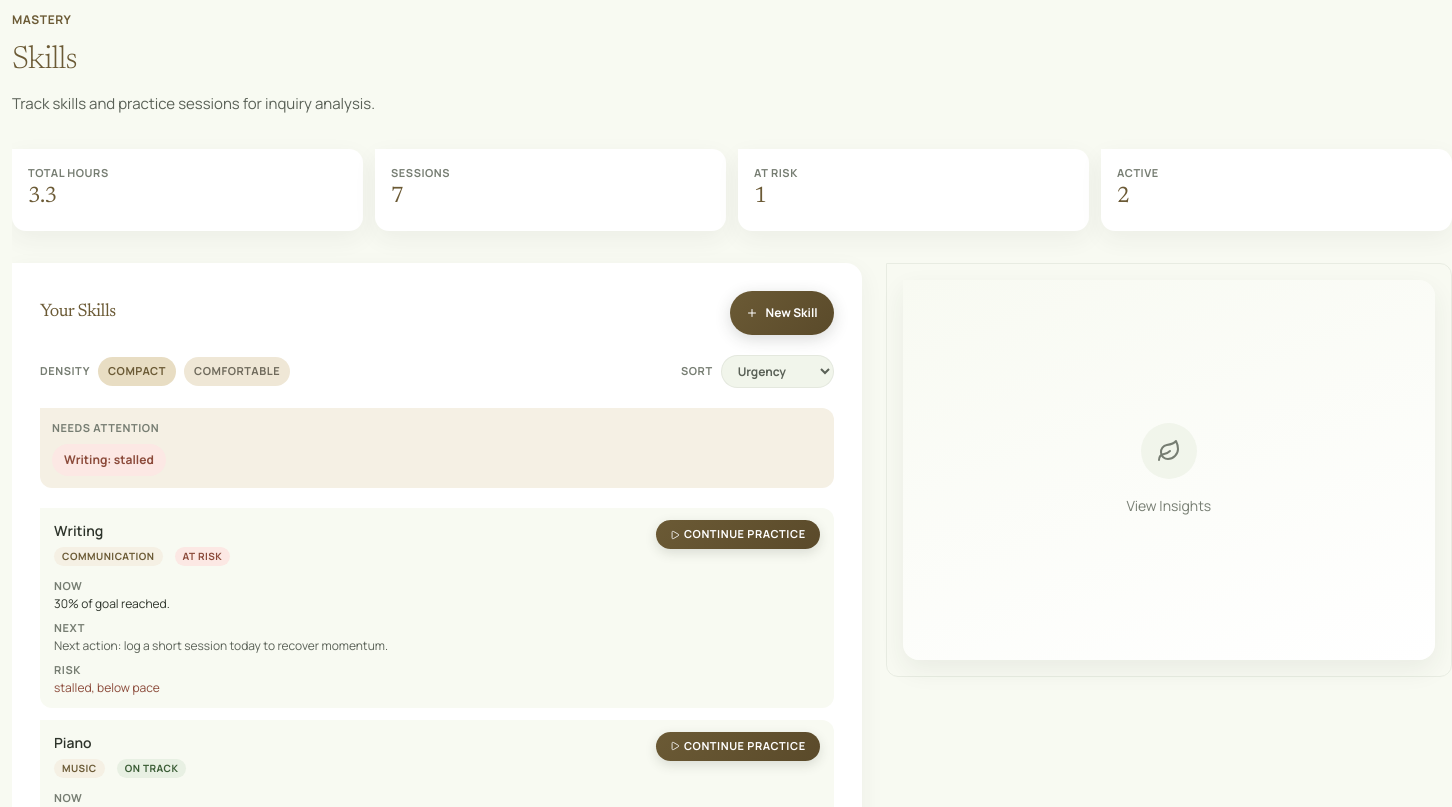
it: SkillsPage create flow rollout behavior › shows needs-attention strip and opens insights from that strip
Expected: the text "Needs Attention" is shown, [52,420,159,435]
What coordinates should you click on to do the following:
click the button "Writing: stalled"
I would click on:
 (109, 460)
Its box is [52,444,166,476].
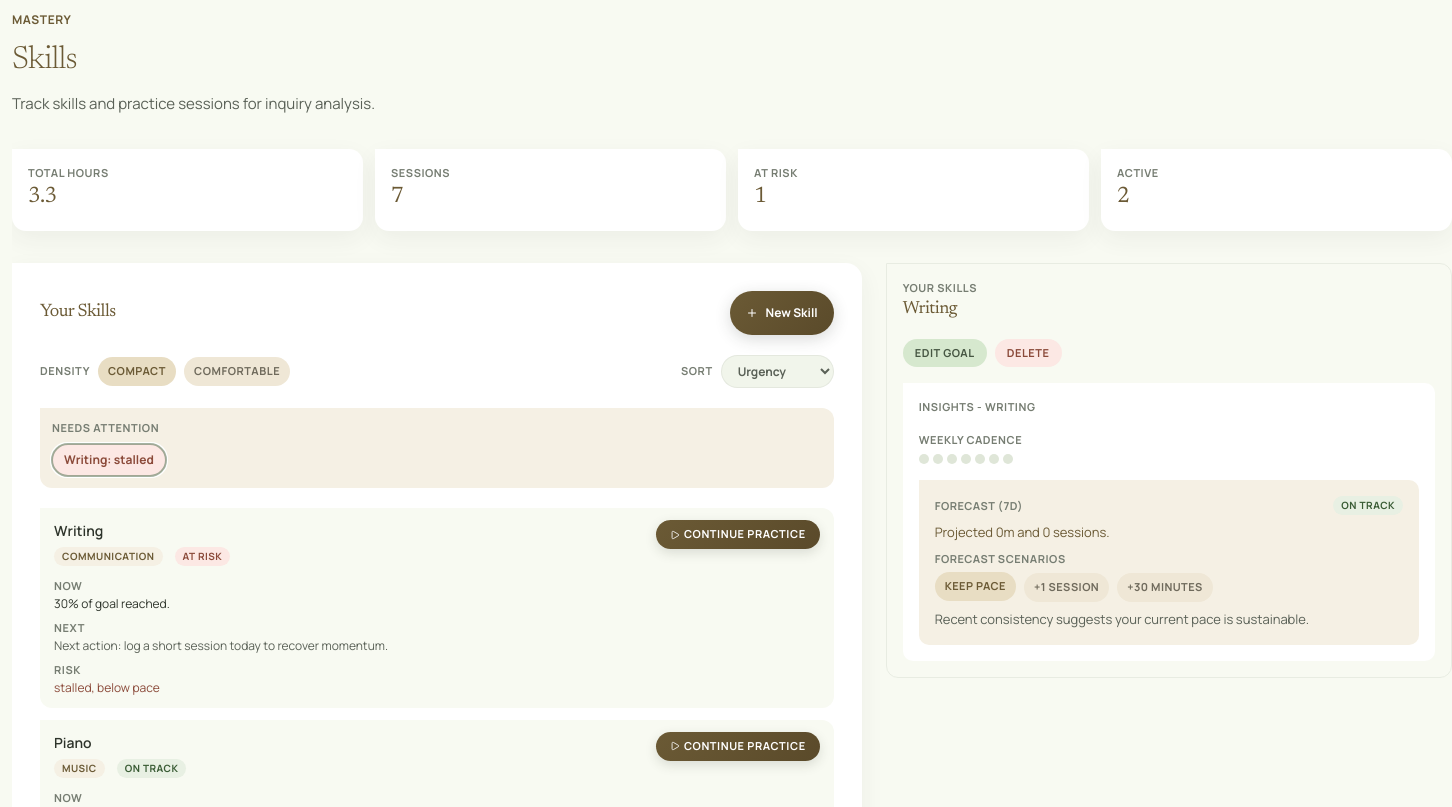
Result: the text "Insights - Writing" is shown at [919,399,1036,414]
